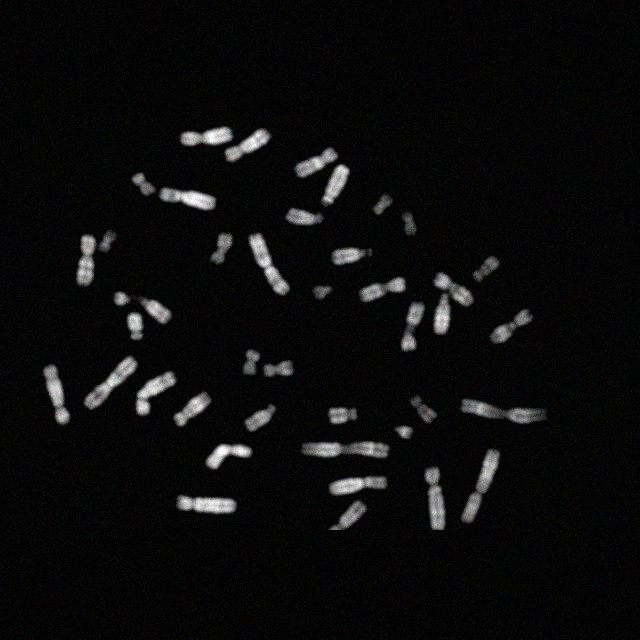chromosome: (462, 450, 501, 524), (86, 358, 136, 410), (249, 233, 289, 295), (462, 399, 544, 423), (136, 372, 178, 416), (303, 441, 389, 462), (42, 364, 70, 424), (225, 128, 271, 162), (434, 273, 474, 307), (491, 312, 533, 344), (329, 474, 388, 496), (173, 394, 213, 426), (425, 466, 445, 530), (158, 188, 216, 210), (296, 146, 338, 176), (205, 444, 252, 470), (361, 276, 407, 302), (178, 495, 236, 515), (331, 500, 367, 532), (322, 163, 350, 204), (401, 300, 423, 352), (76, 234, 96, 286), (245, 403, 278, 433), (180, 128, 232, 146), (140, 296, 173, 324), (434, 292, 450, 336), (473, 256, 499, 282), (210, 234, 232, 264), (332, 247, 373, 263), (286, 208, 322, 226), (412, 397, 436, 423), (132, 172, 156, 196), (264, 360, 294, 378), (329, 406, 357, 424), (128, 312, 144, 341), (373, 195, 393, 218), (243, 350, 259, 378), (98, 232, 118, 252), (112, 288, 132, 308), (401, 212, 417, 236), (394, 422, 412, 440), (314, 284, 334, 300)
